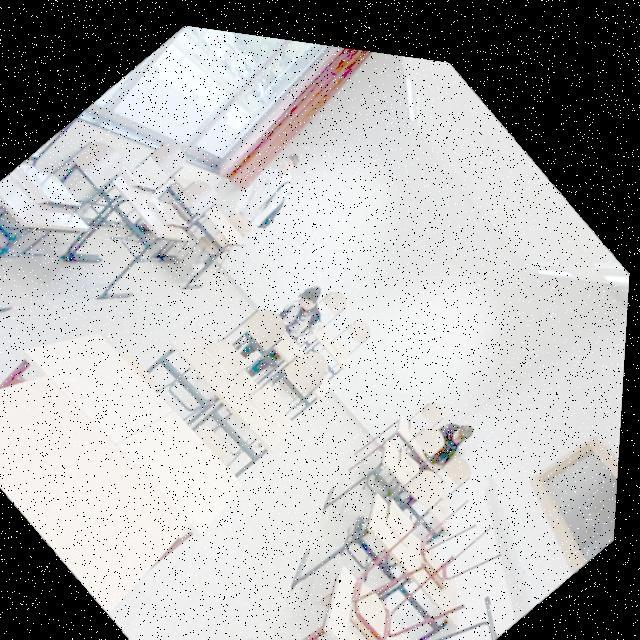phone_use: (429, 422, 471, 461)
